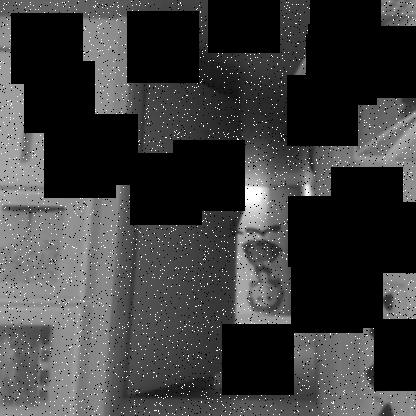Porte: (85, 15, 362, 416)
